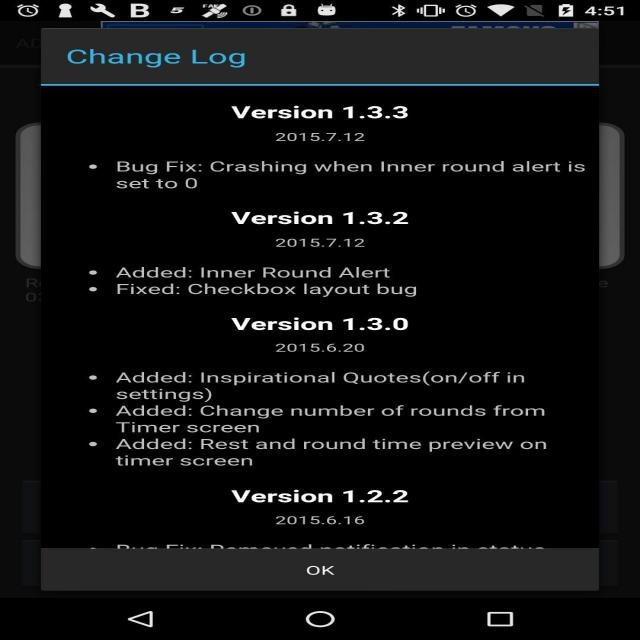text: (47, 90, 584, 545)
